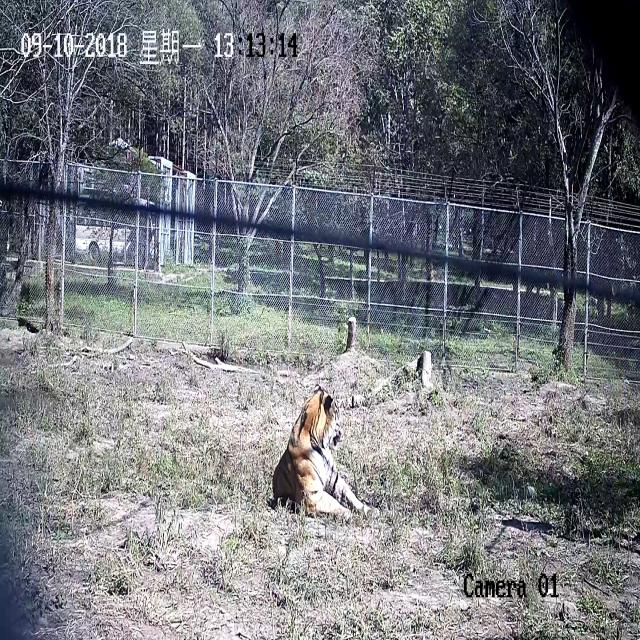Tiger: (247, 357, 414, 572)
